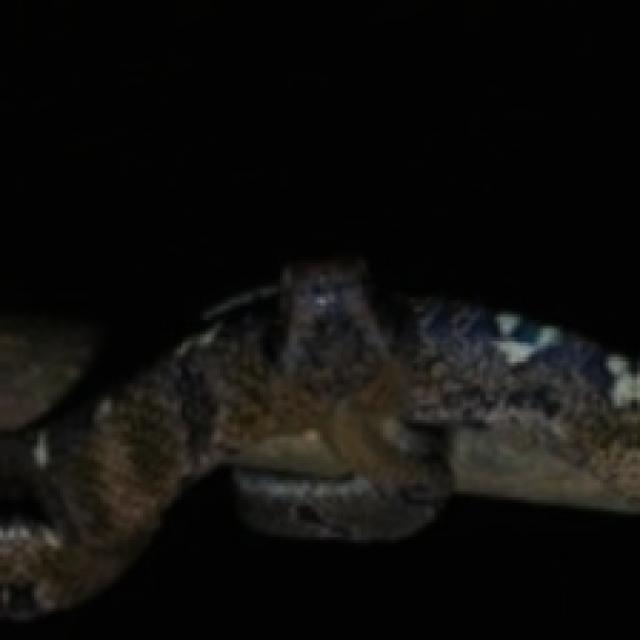dog-toothed cat snake: (0, 260, 637, 614)
